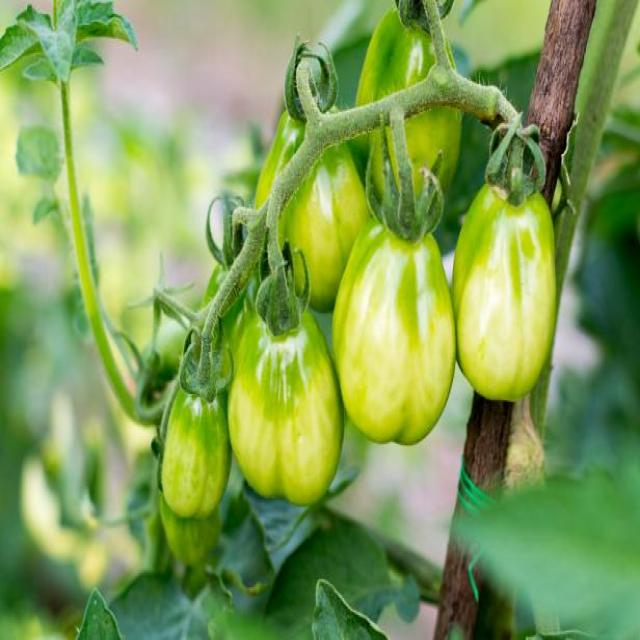yesil: (233, 286, 345, 516), (470, 177, 555, 410)
